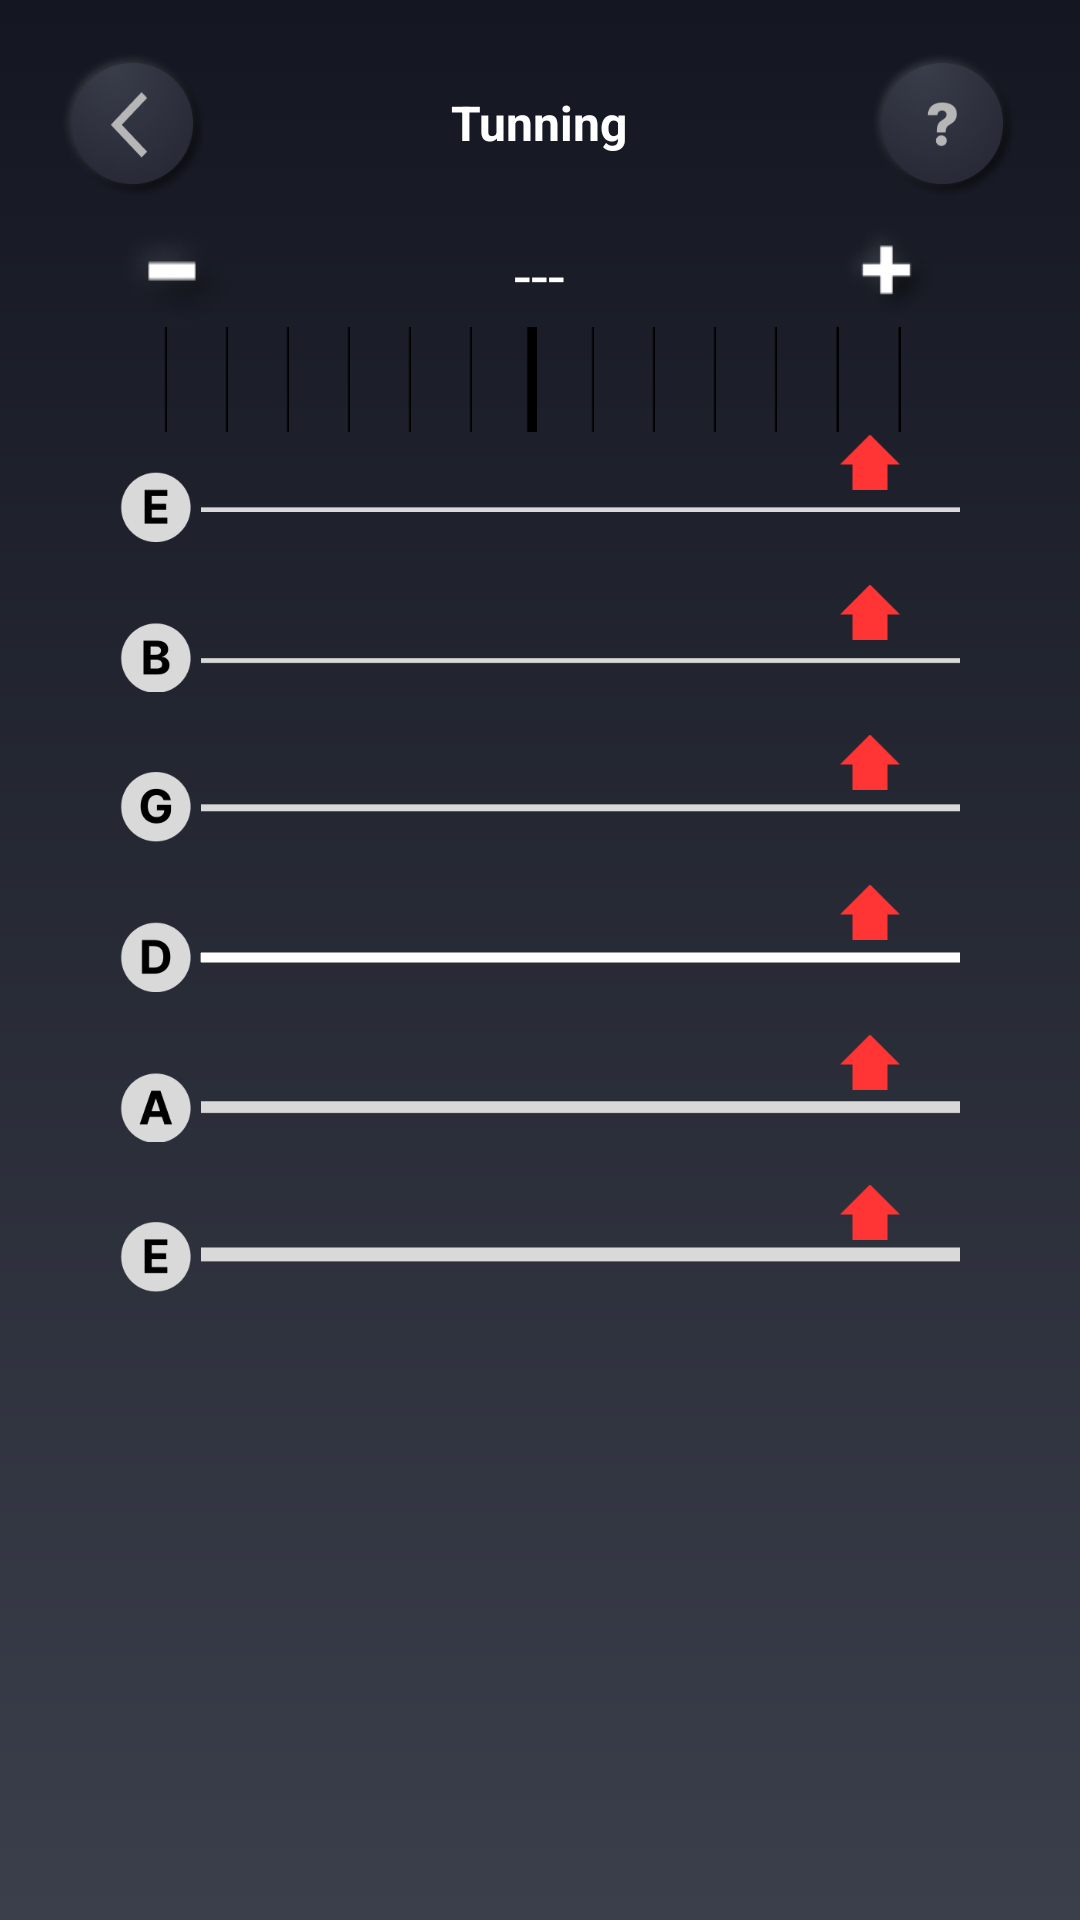

Screen size 1080*1920. Icon name, then its box in pixels as (x1, y1, x2, y2):
back but: (71, 63, 188, 167)
help but: (882, 63, 997, 167)
minus: (148, 261, 196, 281)
plus tunning: (861, 245, 911, 295)
